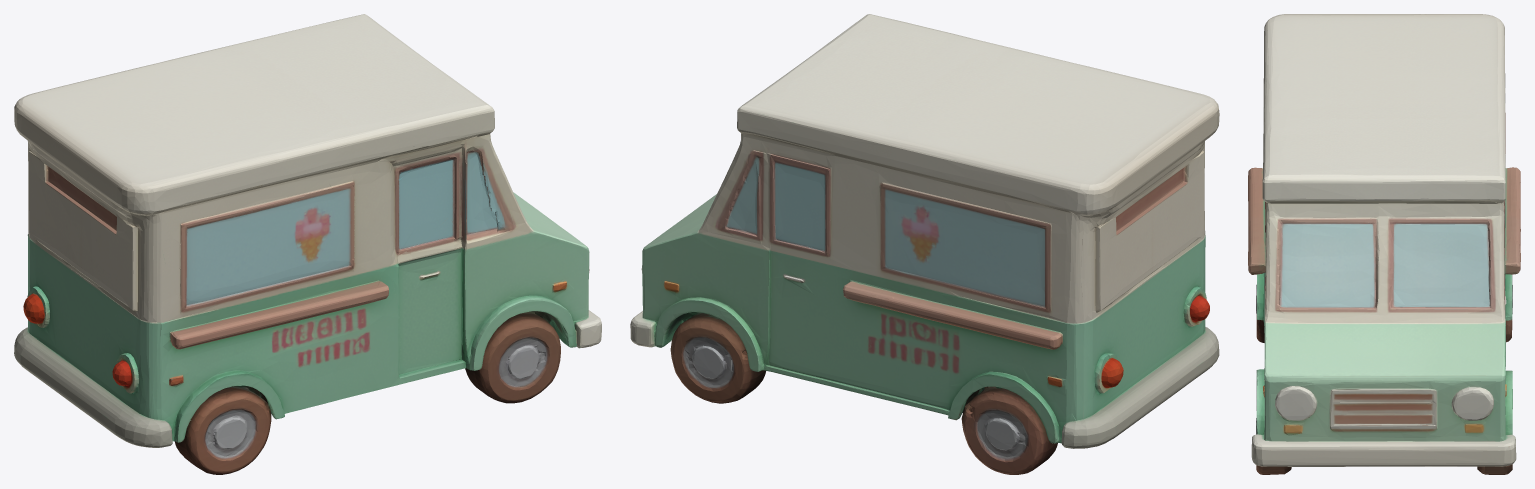
File: ice_cream_truck.glb
The picture shows the model from 3 angles, left to right: view 1: azimuth 30°, elevation 25°; view 2: azimuth 150°, elevation 25°; view 3: azimuth 270°, elevation 25°; orthographic projection. The views are drawn at different scales.
Visible parts, largest first — view 1: world; view 2: world; view 3: world.
Boxes of the visible parts, bbox=[...] form: world: bbox=[14, 14, 601, 474]; world: bbox=[630, 14, 1219, 474]; world: bbox=[1248, 14, 1520, 474].
Bounding box in the file's own units: 1 × 0.6229 × 0.5418.
1 material, 1 textured.
